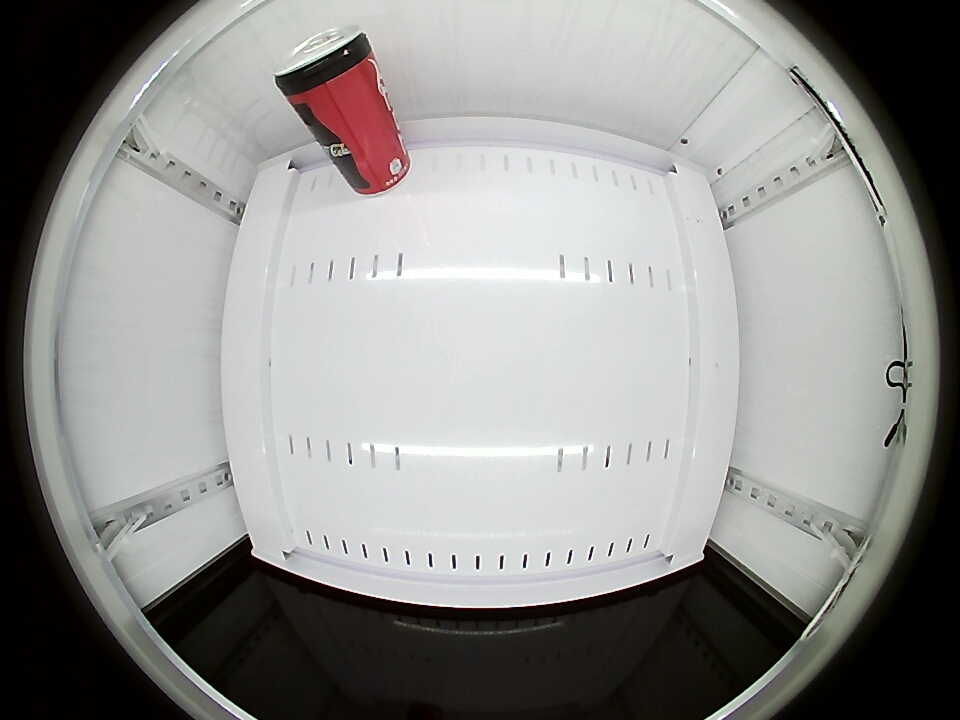lingdukele: (273, 26, 375, 101)
